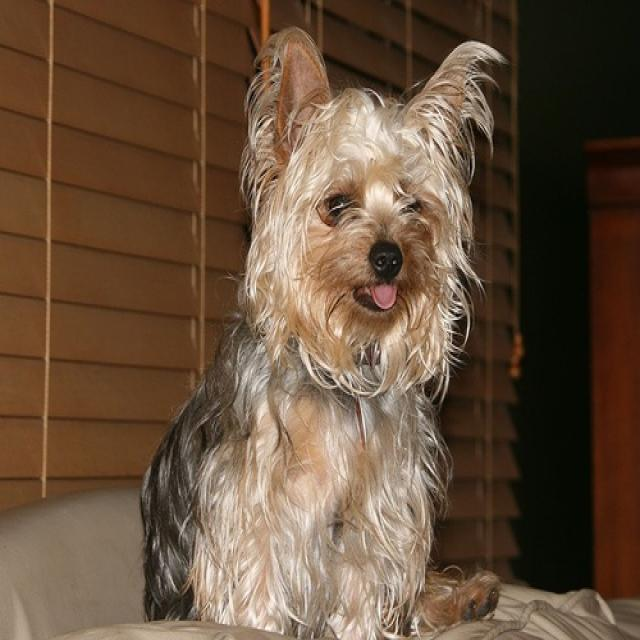dog: (140, 17, 506, 638)
